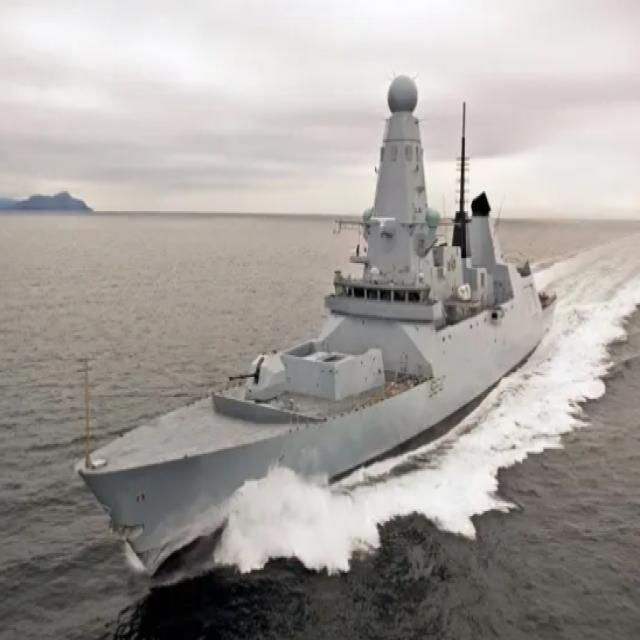navalvessels: (70, 77, 558, 574)
